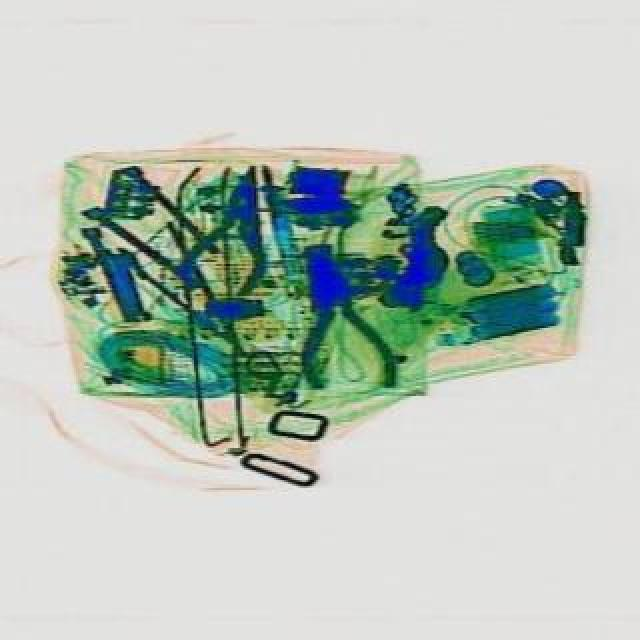wrench: (268, 236, 396, 406), (172, 156, 290, 304)
